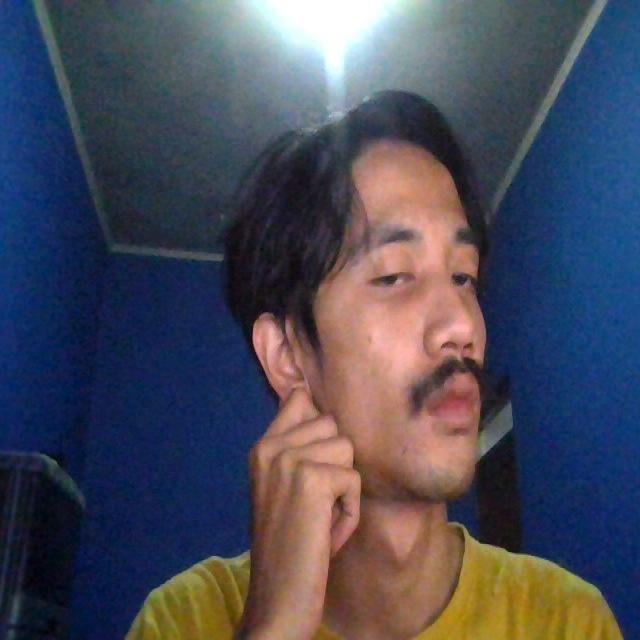movement: (209, 114, 514, 505)
